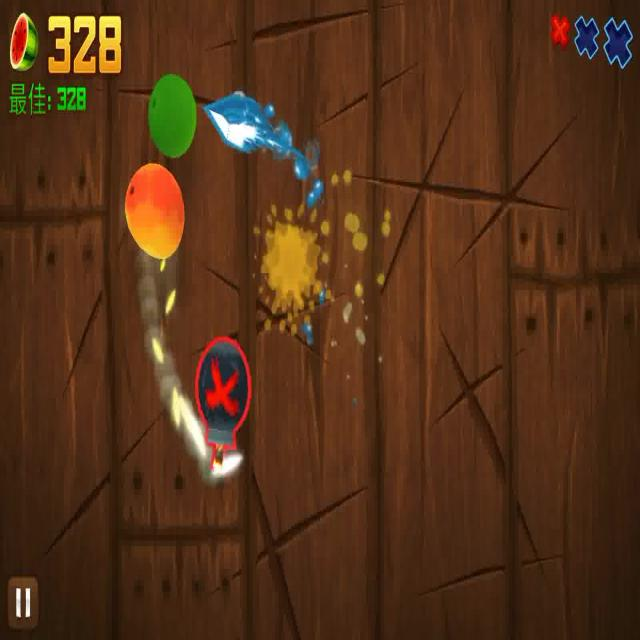bomb: (187, 335, 250, 476)
fruit: (126, 160, 182, 260), (148, 69, 196, 157)
